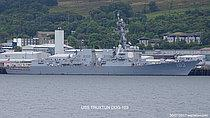MIL_Ship: (3, 42, 203, 77)
